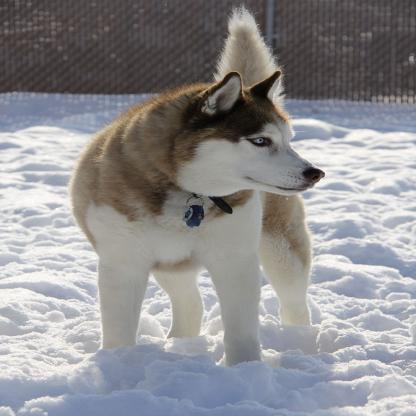dog: (69, 10, 329, 362)
